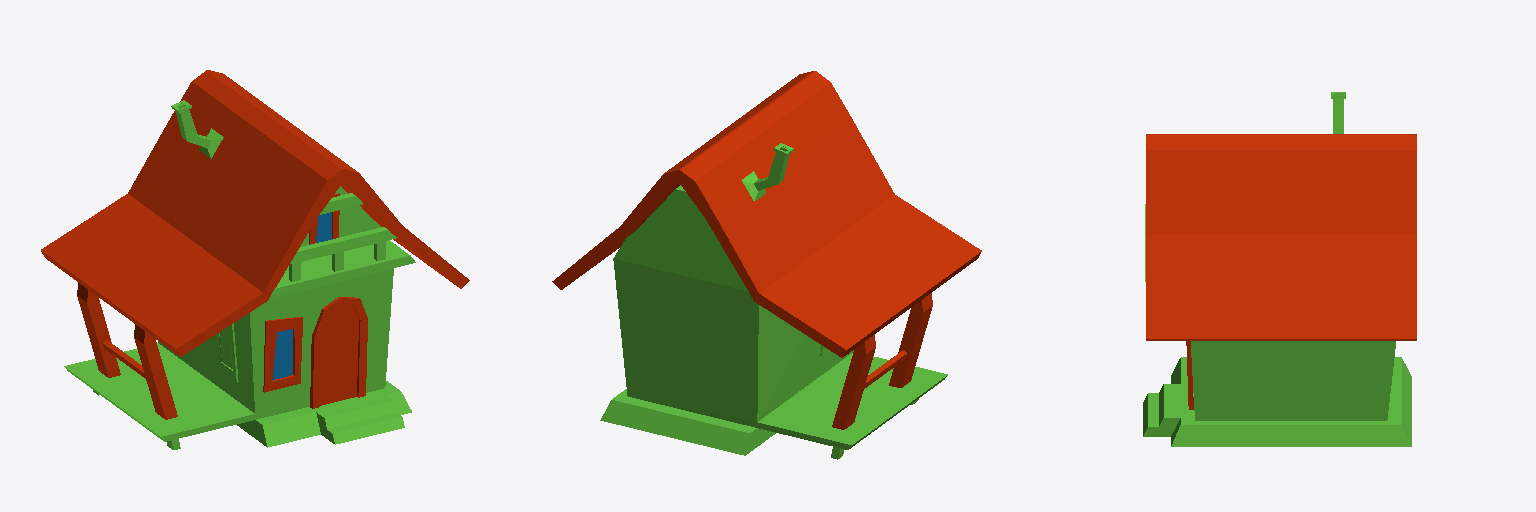
The model's file is house.obj.
3 views of the same model, side by side, from view 1: azimuth 30°, elevation 25°; view 2: azimuth 150°, elevation 25°; view 3: azimuth 270°, elevation 25° (orthographic).
Parts seen in each view (by area): view 1: house; view 2: house; view 3: house.
Boxes of the visible parts, x1=… form: house: x1=41, y1=70, x2=469, y2=449; house: x1=552, y1=71, x2=981, y2=459; house: x1=1143, y1=92, x2=1416, y2=446.
Size of the model in its own units: 1.6 by 1.47 by 1.29.